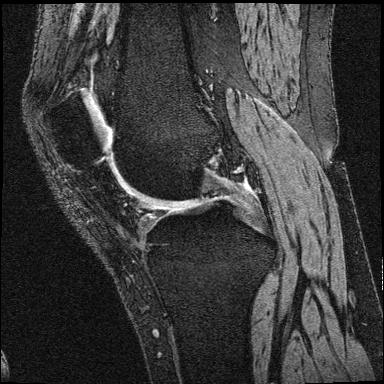SagKneeJointArea: (48, 89, 279, 273)
